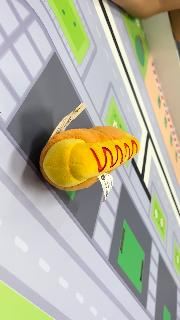hotdog: (40, 126, 140, 190)
